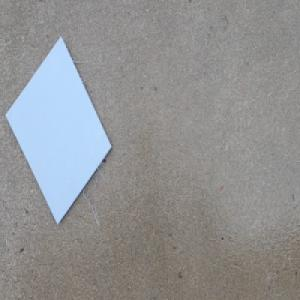PaintChip: (4, 35, 111, 227)
